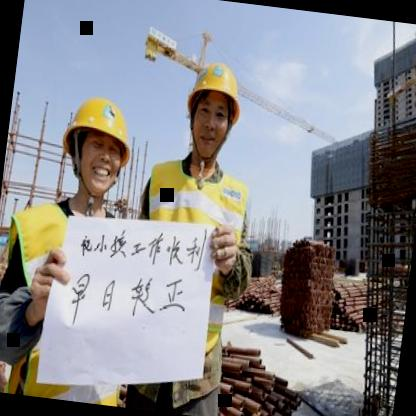helmet: (51, 88, 137, 203), (174, 57, 245, 171)
